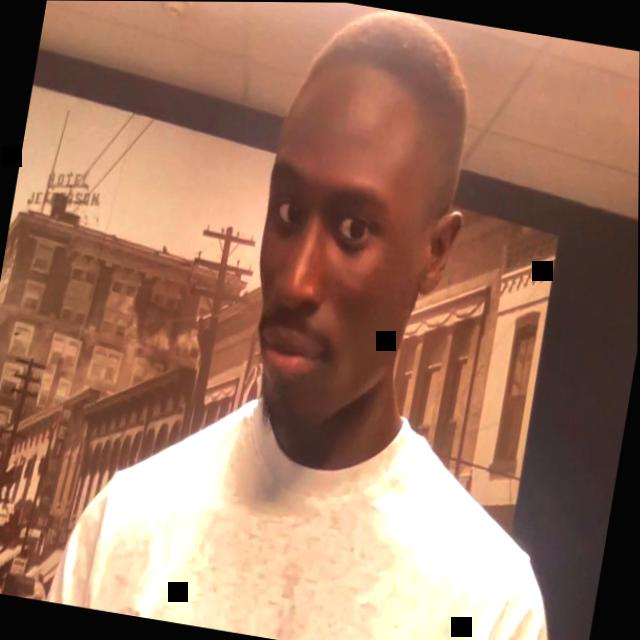NO-Mask: (229, 65, 481, 450)
